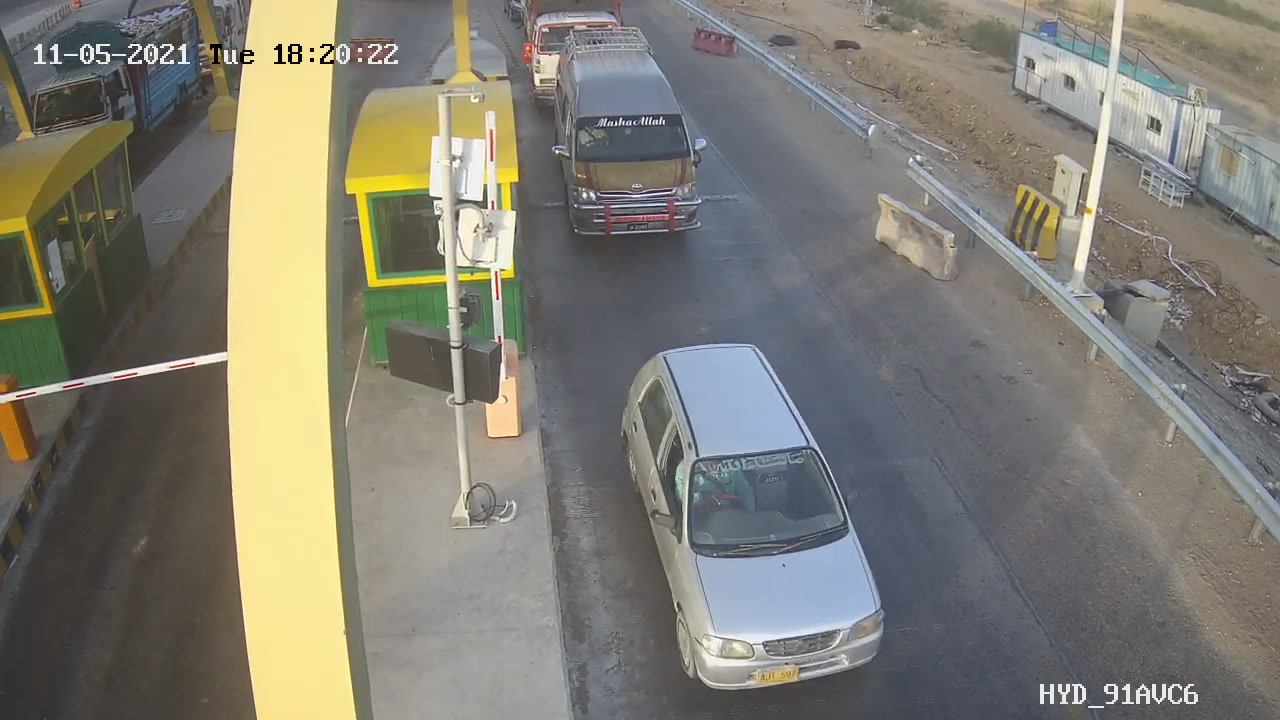F1: (620, 343, 895, 695)
F2: (545, 33, 723, 244)
